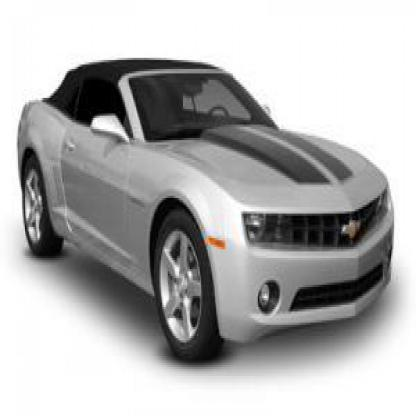car: (17, 60, 394, 369)
